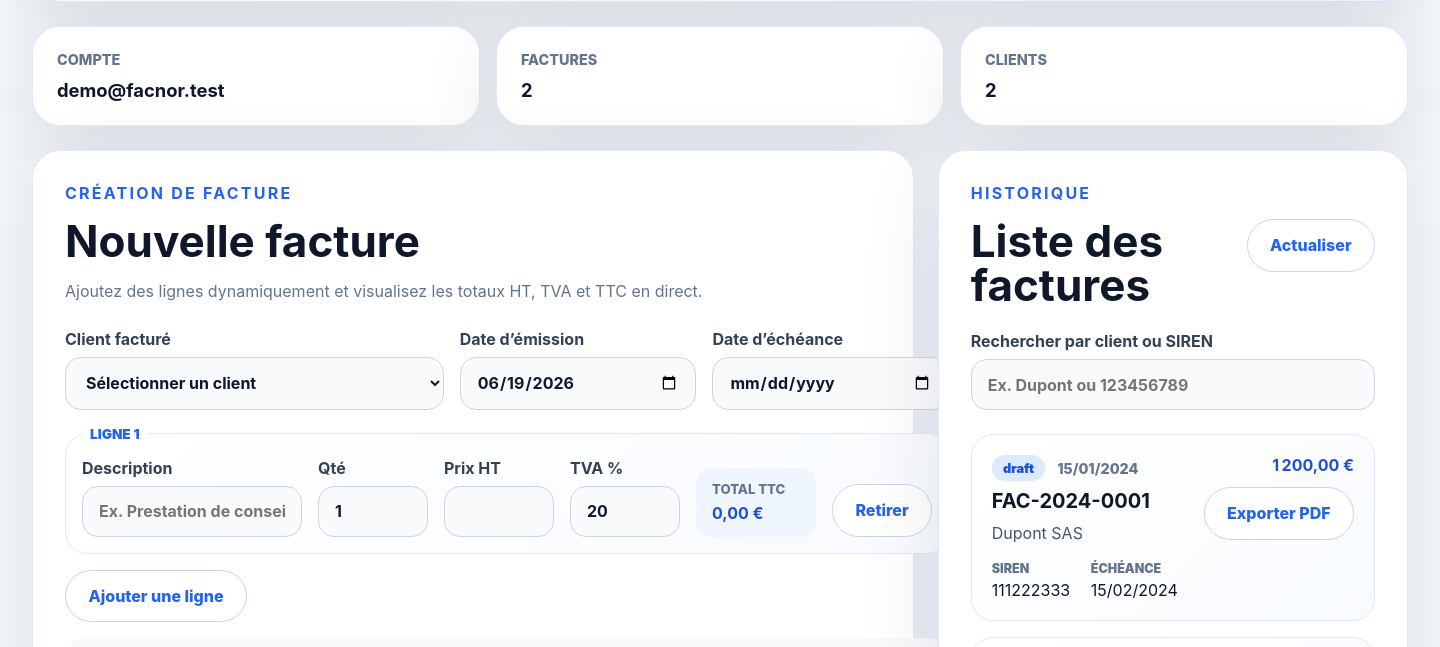
Test: Dashboard invoices › calculates totals, creates an invoice and adds it to history
(page scrolled)
Expected: the heading "FAC-2024-0001" is shown, left=992, top=489, right=1150, bottom=513
Select "Dupont SAS" in the dropdown labelled "Client facturé" at coordinates (254, 384), box left=65, top=357, right=444, bottom=410
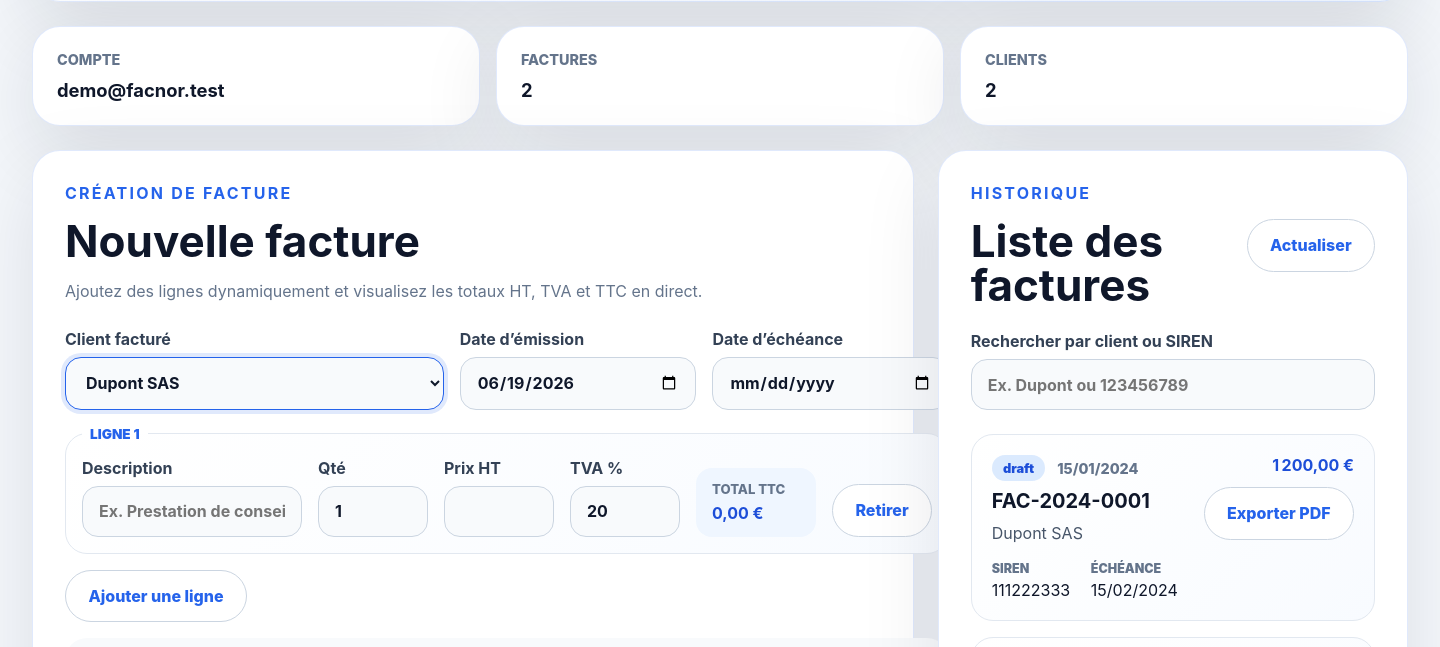
Type "2024-03-31" into the date field labelled "Date d’échéance" at coordinates (831, 384), box left=712, top=357, right=949, bottom=410
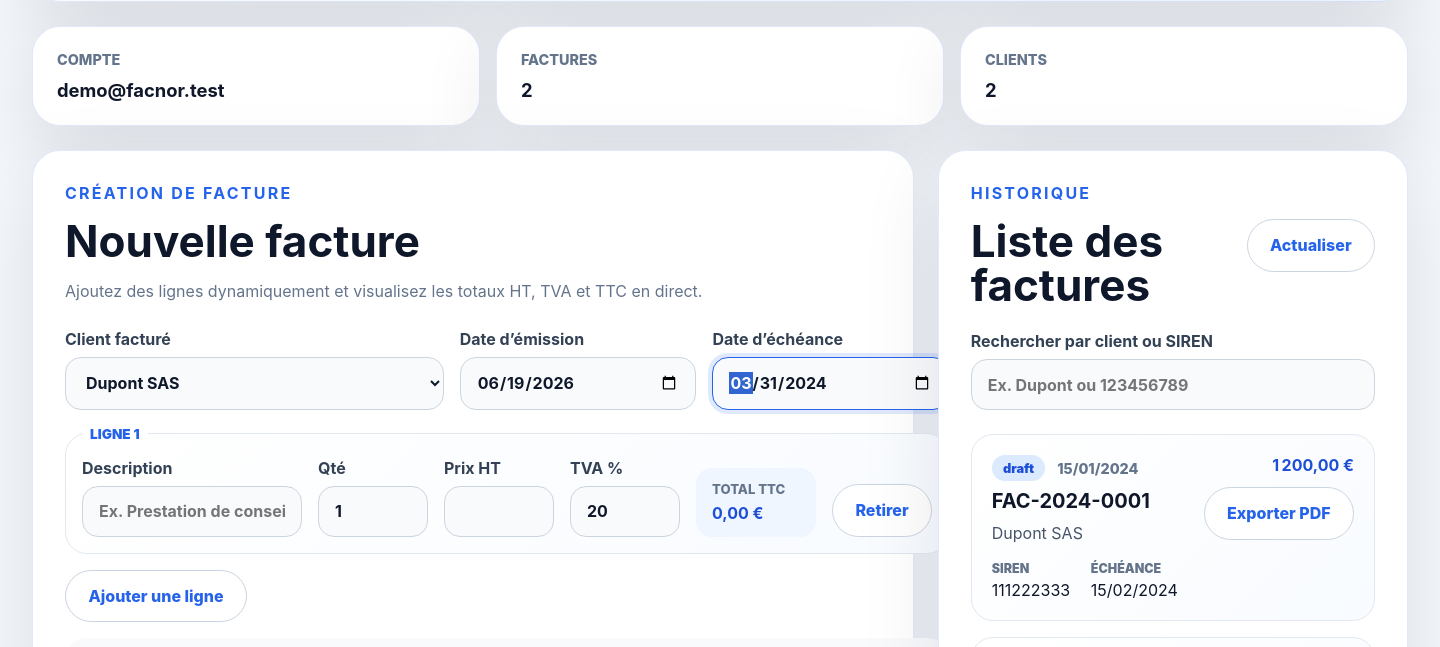
Type "Prestation de conseil" into the field labelled "Description" at coordinates (192, 511), box left=82, top=486, right=302, bottom=537
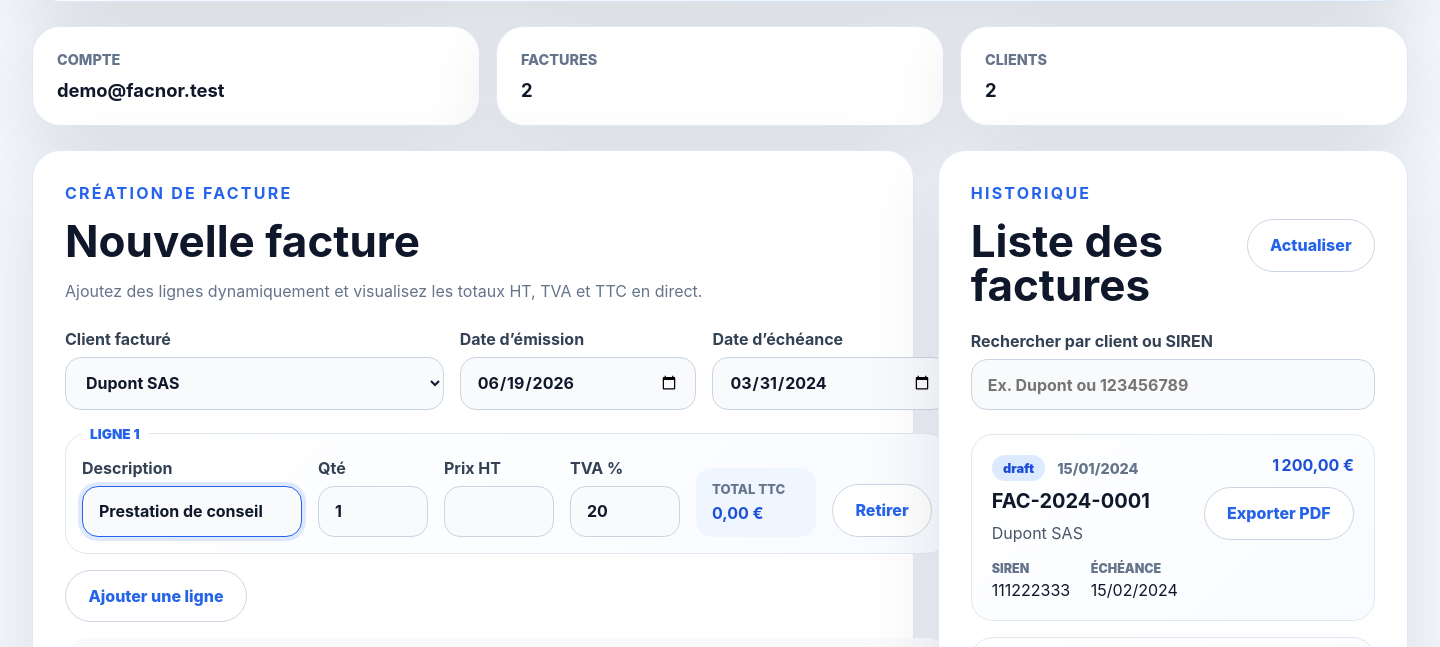
Replace the text in the number field labelled "Qté" with "2" at coordinates (373, 511), box left=318, top=486, right=428, bottom=537
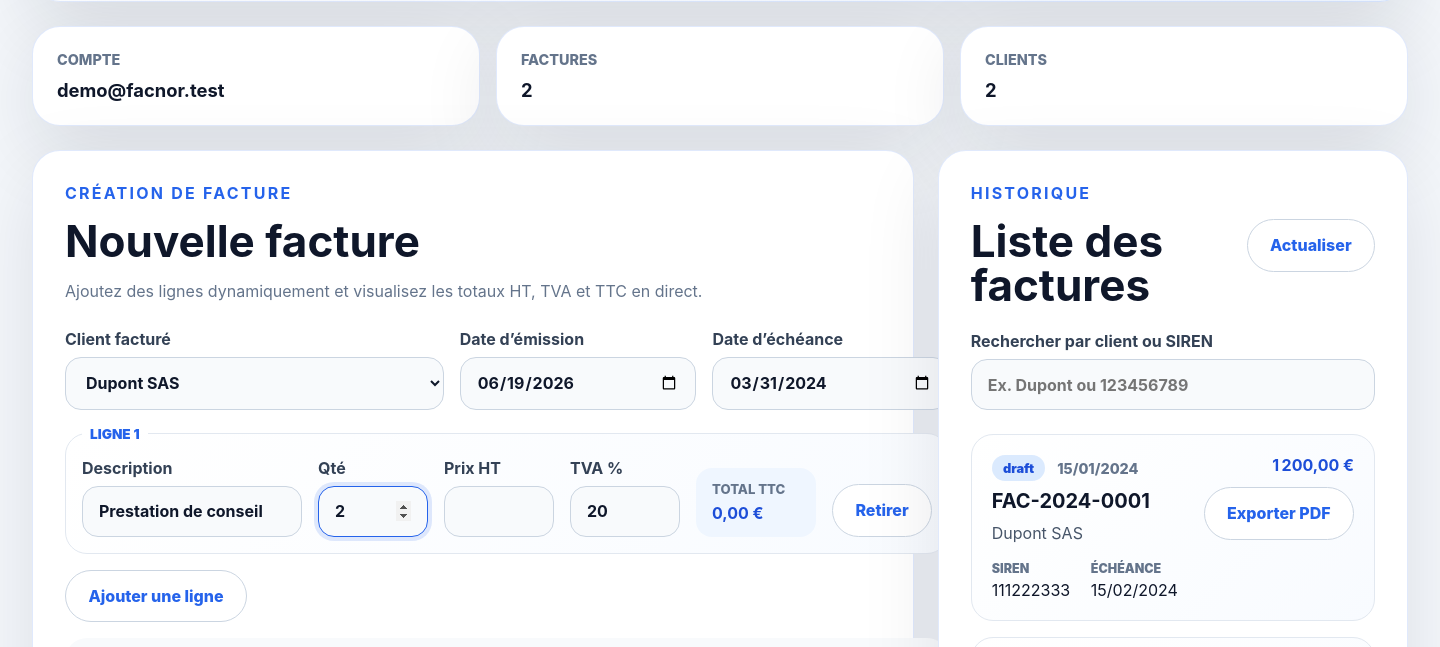
Type "150" into the number field labelled "Prix HT" at coordinates (499, 511), box left=444, top=486, right=554, bottom=537
(page scrolled)
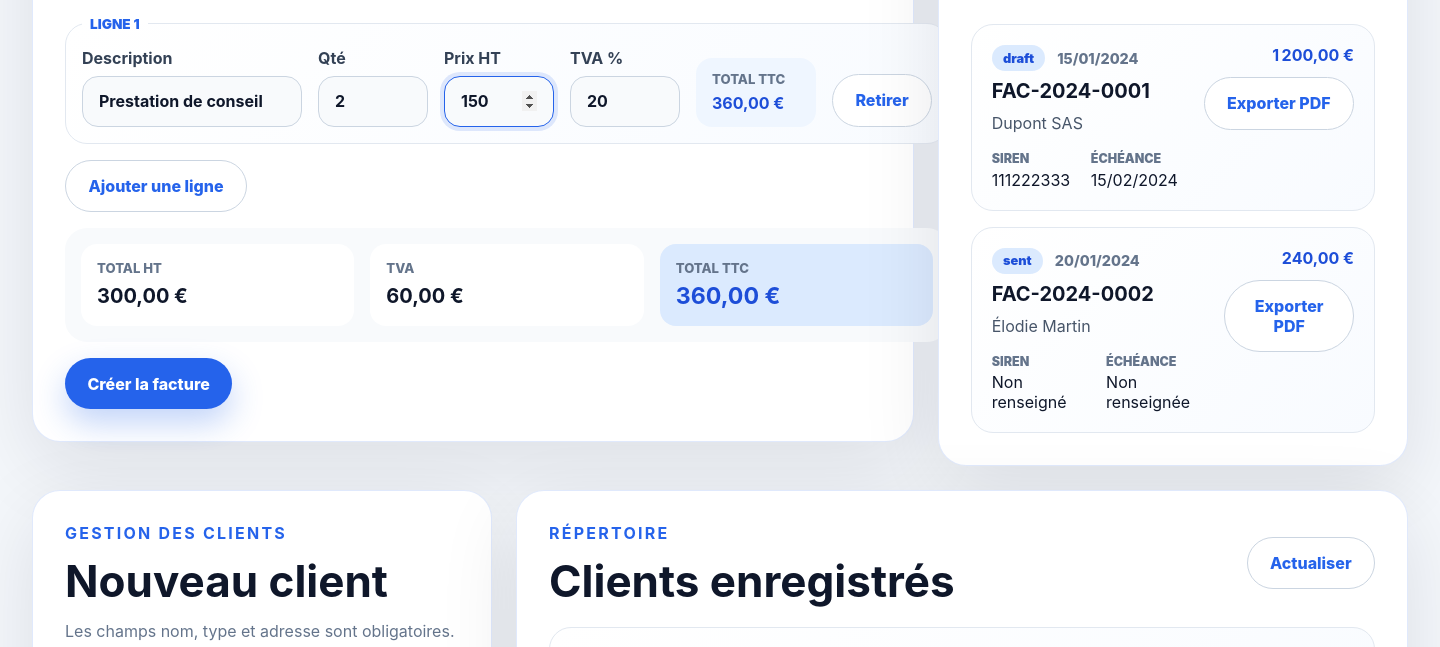
Result: the text "360,00 €" below "Prix HT" is shown at left=712, top=93, right=784, bottom=113
Click the button "Créer la facture" at coordinates (149, 384), box left=65, top=358, right=232, bottom=409
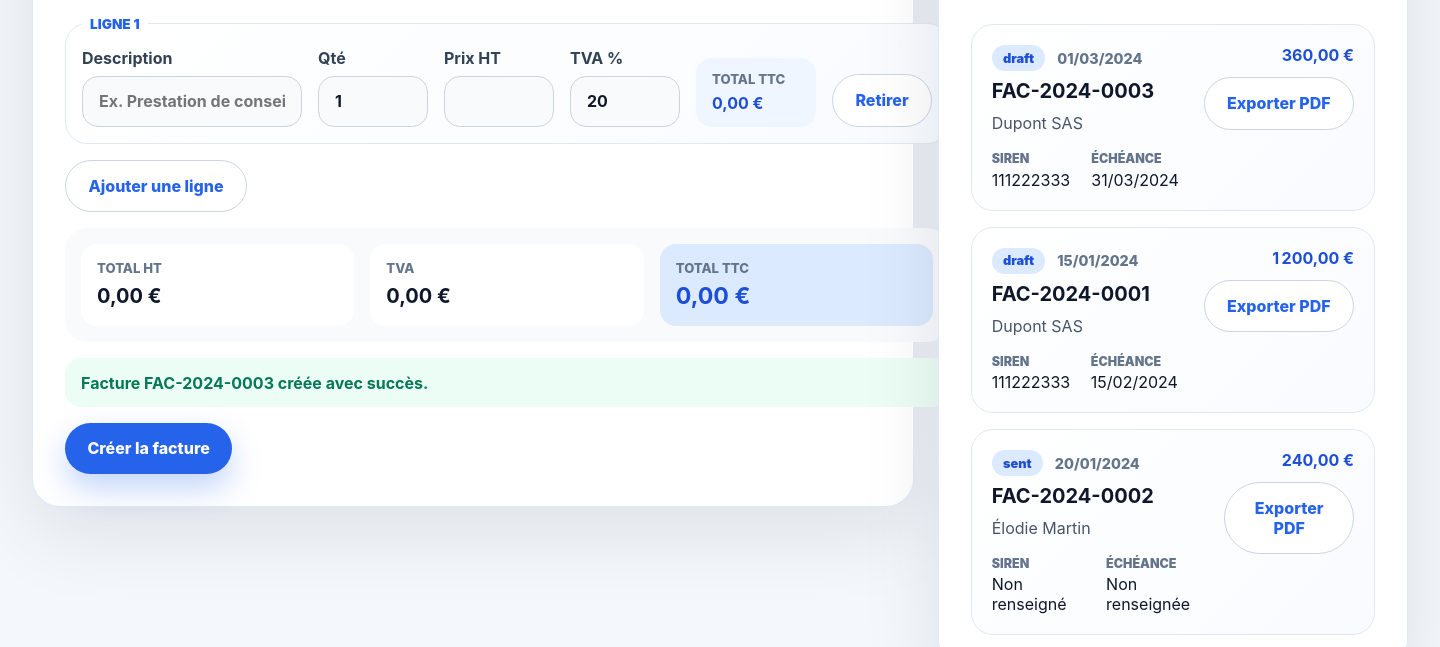
Result: the message reads "Facture FAC-2024-0003 créée avec succès." at left=81, top=373, right=428, bottom=393
Result: the heading "FAC-2024-0003" is shown at left=992, top=79, right=1179, bottom=103
